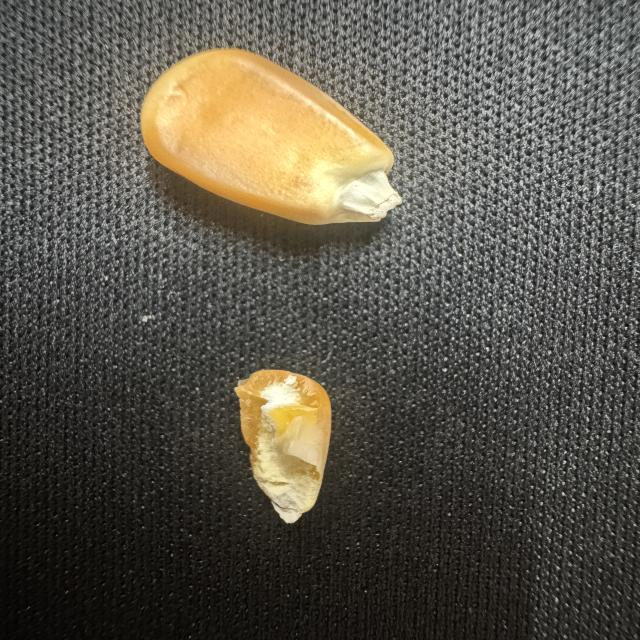Bad-Seed: (230, 362, 339, 530)
Good-Seed: (134, 44, 408, 229)
